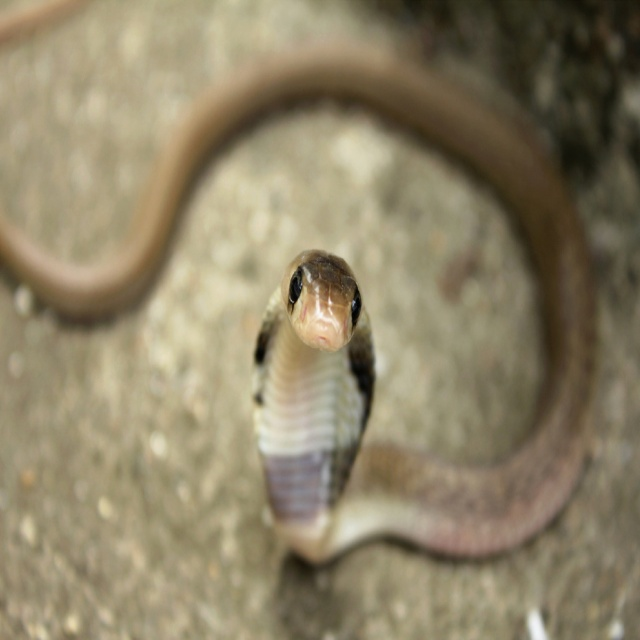Snake: (0, 0, 604, 562)
